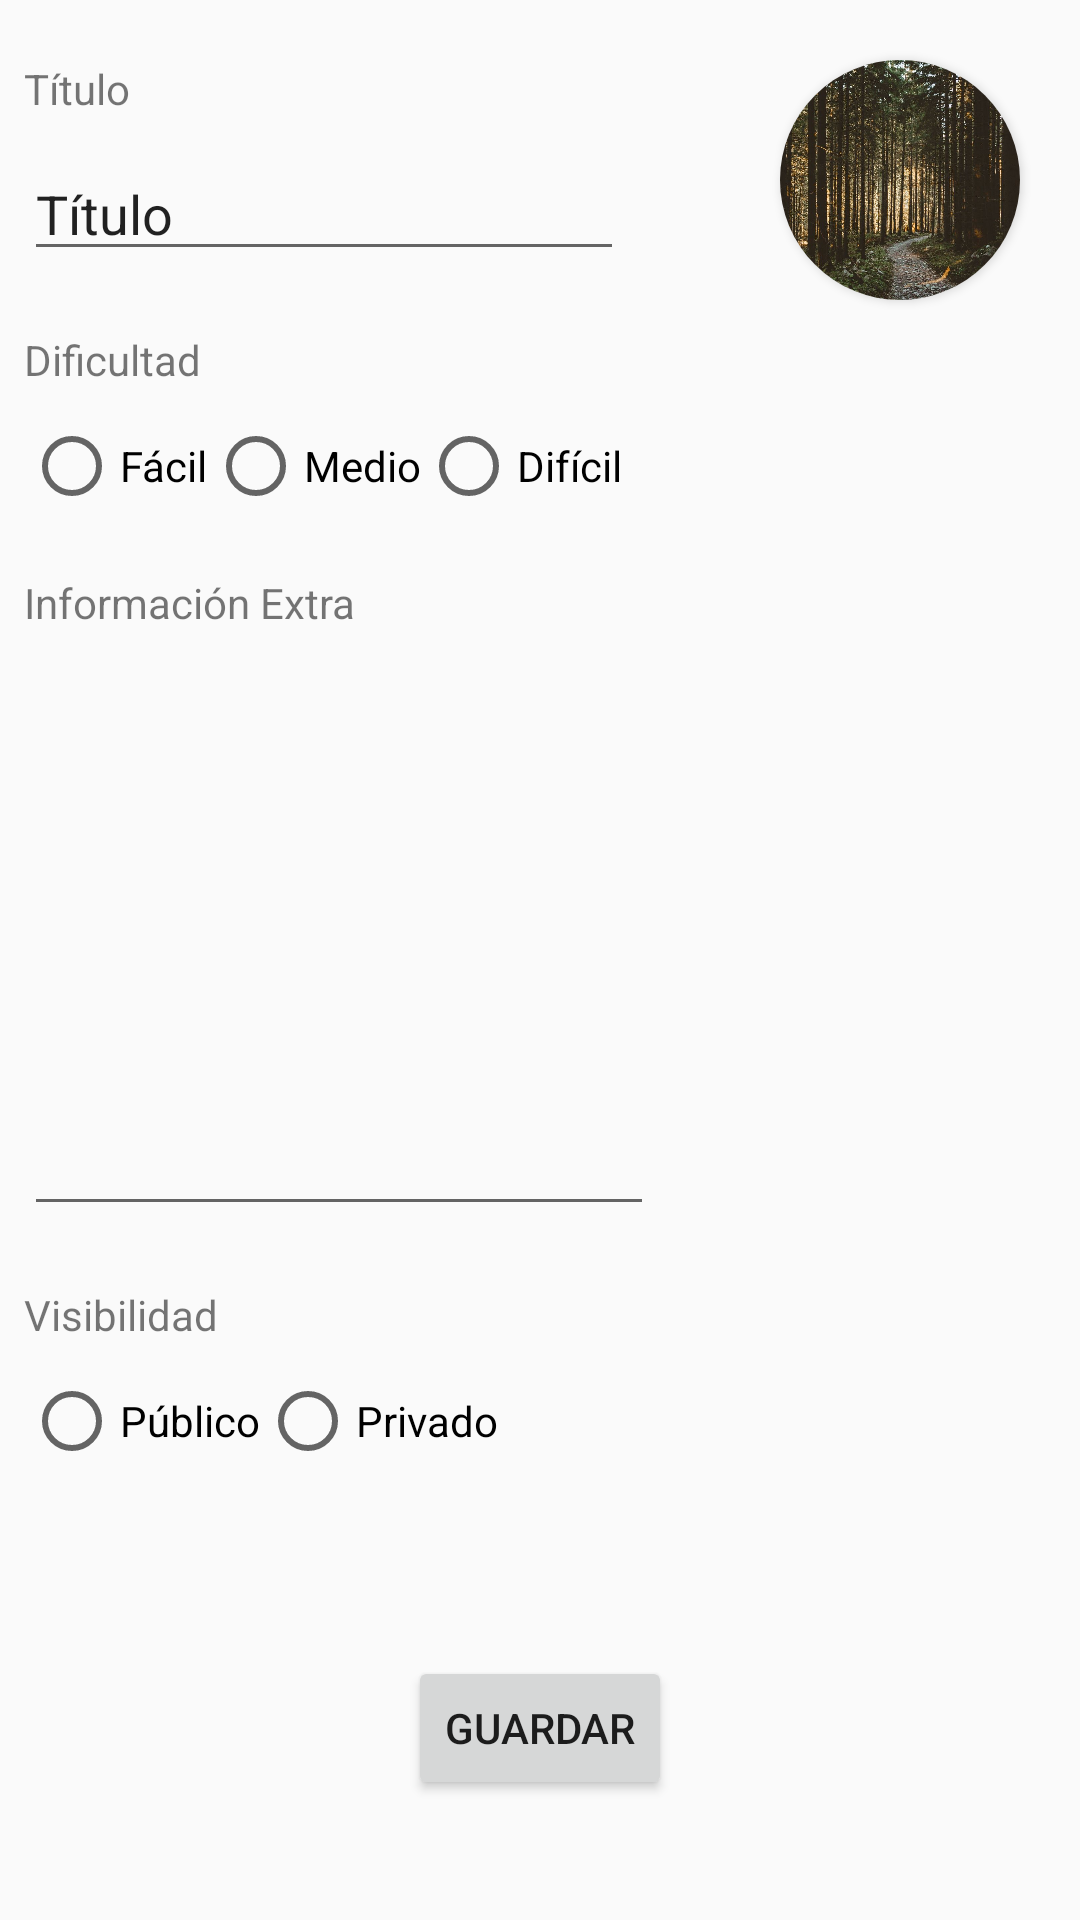

Screen size 1080 x 1920. Icon name, then its center in pixels as point (x, y):
fondoarbol: point (900, 180)
